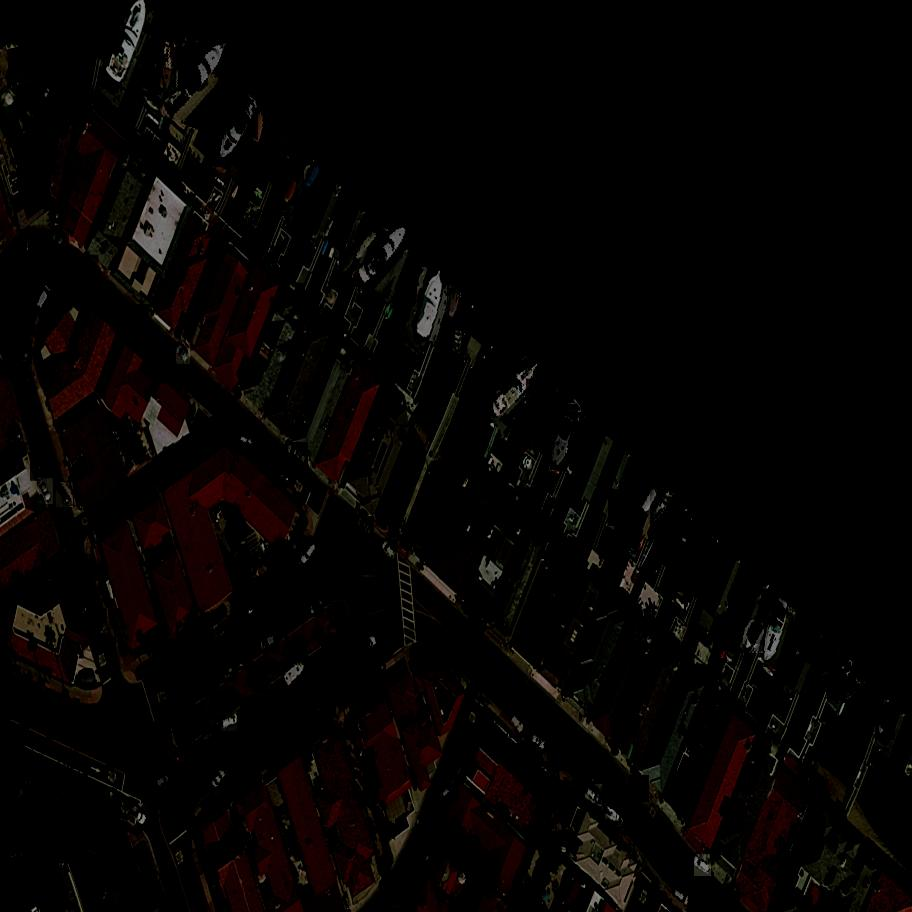large-vehicle: (595, 800, 628, 830)
ship: (158, 32, 239, 121), (352, 220, 416, 291), (211, 92, 263, 167), (488, 356, 547, 421), (416, 267, 450, 341), (759, 595, 793, 666), (549, 404, 581, 470), (825, 654, 859, 701), (649, 486, 677, 527), (792, 627, 823, 662), (607, 489, 633, 526), (742, 620, 768, 654), (875, 705, 898, 740), (817, 651, 842, 682), (338, 249, 363, 279), (640, 483, 664, 514), (712, 619, 735, 651), (142, 60, 163, 95), (619, 460, 642, 490), (505, 422, 529, 450), (844, 676, 867, 705), (354, 234, 376, 264), (163, 37, 174, 93), (565, 448, 586, 477), (252, 109, 268, 145), (303, 166, 323, 193), (283, 176, 300, 206), (448, 288, 461, 323), (525, 379, 544, 402), (763, 589, 774, 620), (453, 329, 464, 356), (545, 415, 555, 444), (278, 153, 286, 187), (681, 515, 689, 545)
small-vehicle: (281, 661, 311, 690), (625, 775, 653, 803), (544, 744, 572, 772), (521, 728, 552, 753), (283, 443, 311, 469), (29, 449, 51, 481), (125, 802, 151, 828), (506, 711, 531, 738), (438, 776, 463, 803), (33, 284, 55, 313), (230, 430, 258, 452), (720, 883, 742, 911), (256, 632, 285, 653), (198, 724, 223, 747), (154, 358, 180, 380), (690, 855, 716, 877), (669, 885, 693, 908), (582, 784, 606, 807), (50, 229, 72, 254), (359, 635, 382, 658), (208, 768, 230, 792), (355, 517, 377, 541), (55, 482, 76, 507), (299, 542, 320, 566), (201, 675, 223, 697), (306, 596, 328, 618), (150, 772, 173, 793), (217, 712, 241, 732), (131, 305, 153, 326), (272, 466, 293, 488), (219, 661, 240, 683), (319, 638, 343, 657), (37, 479, 54, 505), (236, 650, 257, 671), (79, 255, 102, 274), (80, 554, 97, 579), (174, 343, 193, 365), (380, 539, 398, 562), (52, 279, 72, 295), (21, 339, 33, 365), (130, 849, 151, 863), (98, 789, 117, 804), (241, 701, 260, 716), (25, 314, 35, 337), (106, 638, 116, 660), (100, 608, 108, 634), (20, 230, 26, 253)
